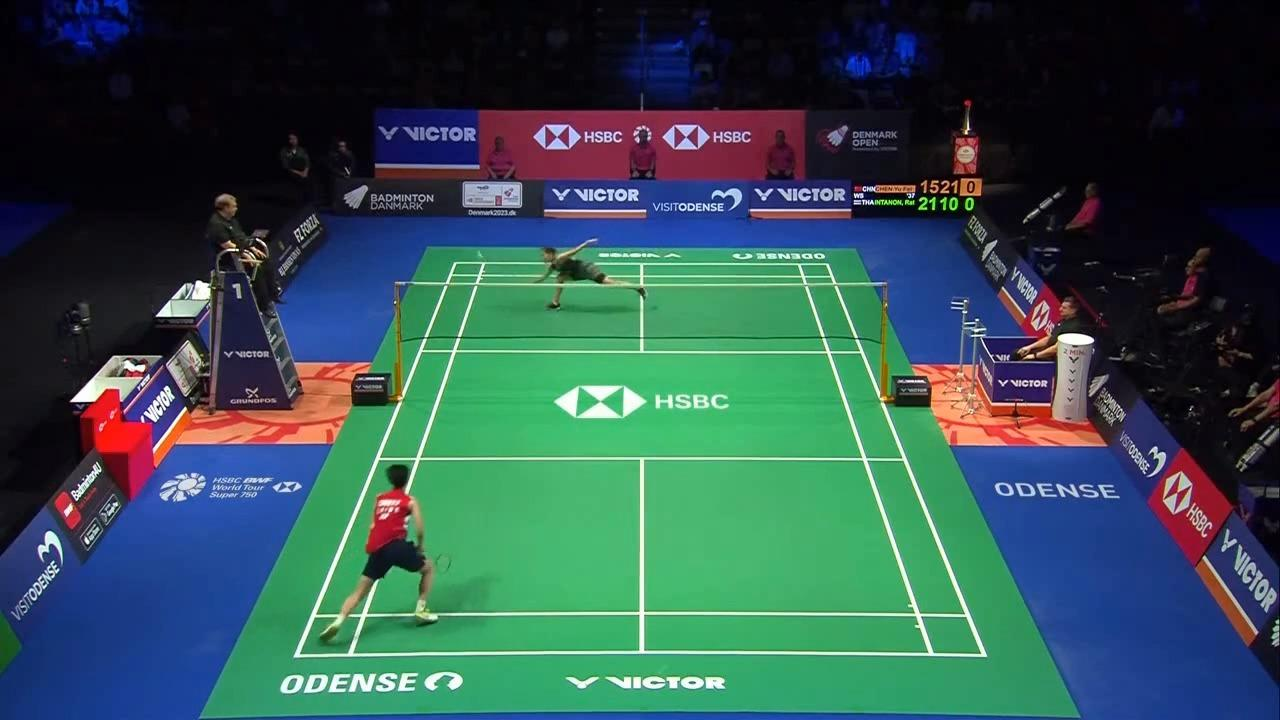shuttle: (475, 249, 484, 259)
